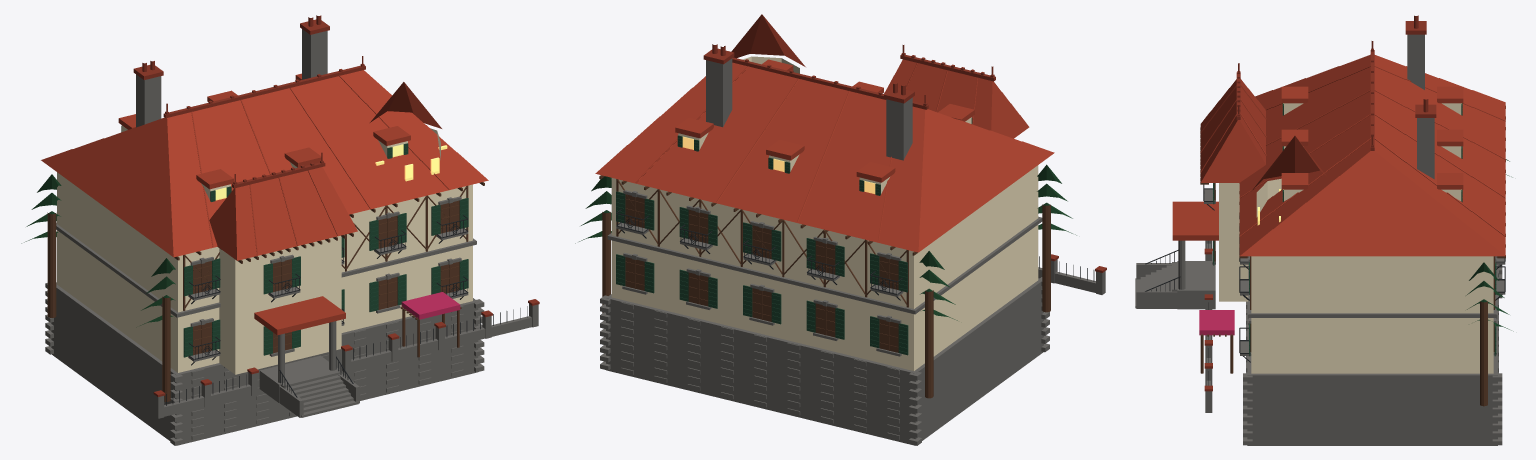
File: fv_hv_10_hung_vuong_phi_anh_manor.glb
3 renders of one model, left to right at view 1: azimuth 30°, elevation 25°; view 2: azimuth 150°, elevation 25°; view 3: azimuth 270°, elevation 25°, orthographic. The views are drawn at different scales.
Visible parts, largest first — view 1: marseille_corrugated_roof_tiles, granite_foundation_and_stairs, stucco_facade_and_dormers, colombage_timber_and_eaves, pine_green_louvered_shutters, ridge_cresting_and_chimneys, wrought_iron_balconies_3d, pine_trees_and_garden_hedges, bougainvillea_pergola_clusters, warm_night_windows_ffb86c; view 2: marseille_corrugated_roof_tiles, granite_foundation_and_stairs, stucco_facade_and_dormers, colombage_timber_and_eaves, pine_green_louvered_shutters, ridge_cresting_and_chimneys, pine_trees_and_garden_hedges, wrought_iron_balconies_3d; view 3: marseille_corrugated_roof_tiles, stucco_facade_and_dormers, granite_foundation_and_stairs, colombage_timber_and_eaves, ridge_cresting_and_chimneys, bougainvillea_pergola_clusters, wrought_iron_balconies_3d, pine_green_louvered_shutters, pine_trees_and_garden_hedges.
Boxes of the visible parts, x1=… form: marseille_corrugated_roof_tiles: x1=41, y1=70, x2=488, y2=335; granite_foundation_and_stairs: x1=45, y1=29, x2=538, y2=445; stucco_facade_and_dormers: x1=57, y1=125, x2=472, y2=374; colombage_timber_and_eaves: x1=47, y1=182, x2=484, y2=401; pine_green_louvered_shutters: x1=121, y1=126, x2=468, y2=357; ridge_cresting_and_chimneys: x1=133, y1=15, x2=539, y2=396; wrought_iron_balconies_3d: x1=166, y1=215, x2=527, y2=405; pine_trees_and_garden_hedges: x1=21, y1=174, x2=175, y2=327; bougainvillea_pergola_clusters: x1=401, y1=292, x2=460, y2=319; warm_night_windows_ffb86c: x1=215, y1=144, x2=447, y2=200; marseille_corrugated_roof_tiles: x1=595, y1=14, x2=1054, y2=252; granite_foundation_and_stairs: x1=600, y1=58, x2=1105, y2=445; stucco_facade_and_dormers: x1=611, y1=56, x2=1038, y2=370; colombage_timber_and_eaves: x1=599, y1=175, x2=1050, y2=398; pine_green_louvered_shutters: x1=616, y1=118, x2=972, y2=355; ridge_cresting_and_chimneys: x1=703, y1=44, x2=1106, y2=272; pine_trees_and_garden_hedges: x1=575, y1=164, x2=1076, y2=320; wrought_iron_balconies_3d: x1=616, y1=209, x2=1094, y2=300; marseille_corrugated_roof_tiles: x1=1172, y1=54, x2=1505, y2=256; stucco_facade_and_dormers: x1=1219, y1=103, x2=1493, y2=373; granite_foundation_and_stairs: x1=1135, y1=34, x2=1505, y2=445; colombage_timber_and_eaves: x1=1200, y1=106, x2=1505, y2=406; ridge_cresting_and_chimneys: x1=1204, y1=15, x2=1436, y2=391; bougainvillea_pergola_clusters: x1=1199, y1=310, x2=1234, y2=335; wrought_iron_balconies_3d: x1=1145, y1=184, x2=1505, y2=385; pine_green_louvered_shutters: x1=1213, y1=103, x2=1496, y2=356; pine_trees_and_garden_hedges: x1=1466, y1=159, x2=1513, y2=331.
Size of the model in its own units: 26.92 by 20.83 by 23.59.
